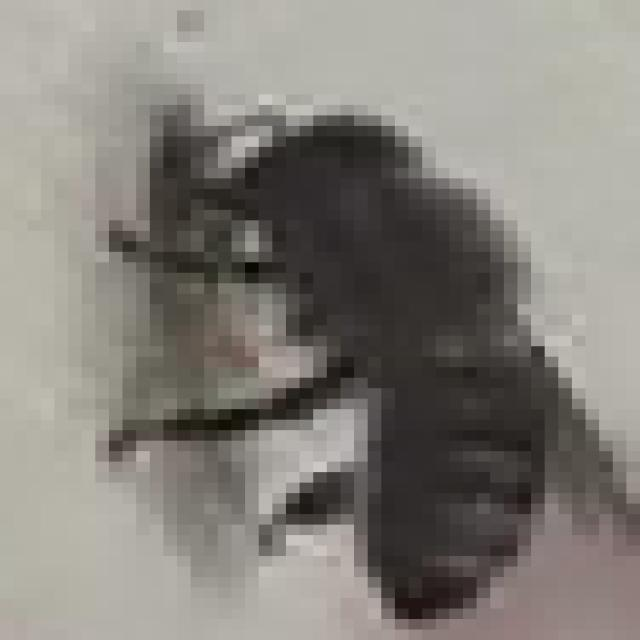honeybee: (115, 104, 634, 607)
